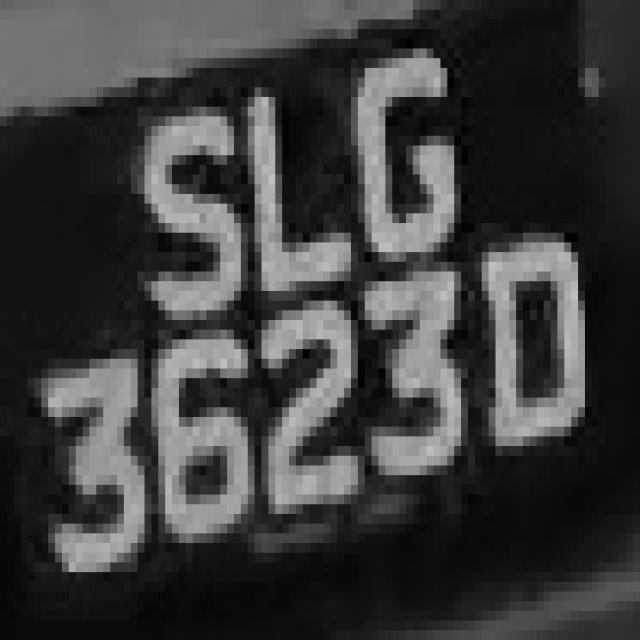2: (255, 291, 372, 524)
3: (21, 349, 158, 592), (358, 281, 475, 495)
6: (131, 320, 275, 562)
D: (475, 243, 592, 475)
G: (344, 48, 475, 300)
L: (213, 68, 351, 291)
S: (124, 87, 227, 330)
